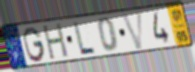0: (96, 16, 120, 53)
4: (153, 10, 171, 45)
G: (22, 26, 47, 63)
H: (42, 22, 70, 62)
L: (72, 20, 98, 55)
V: (120, 10, 145, 52)
